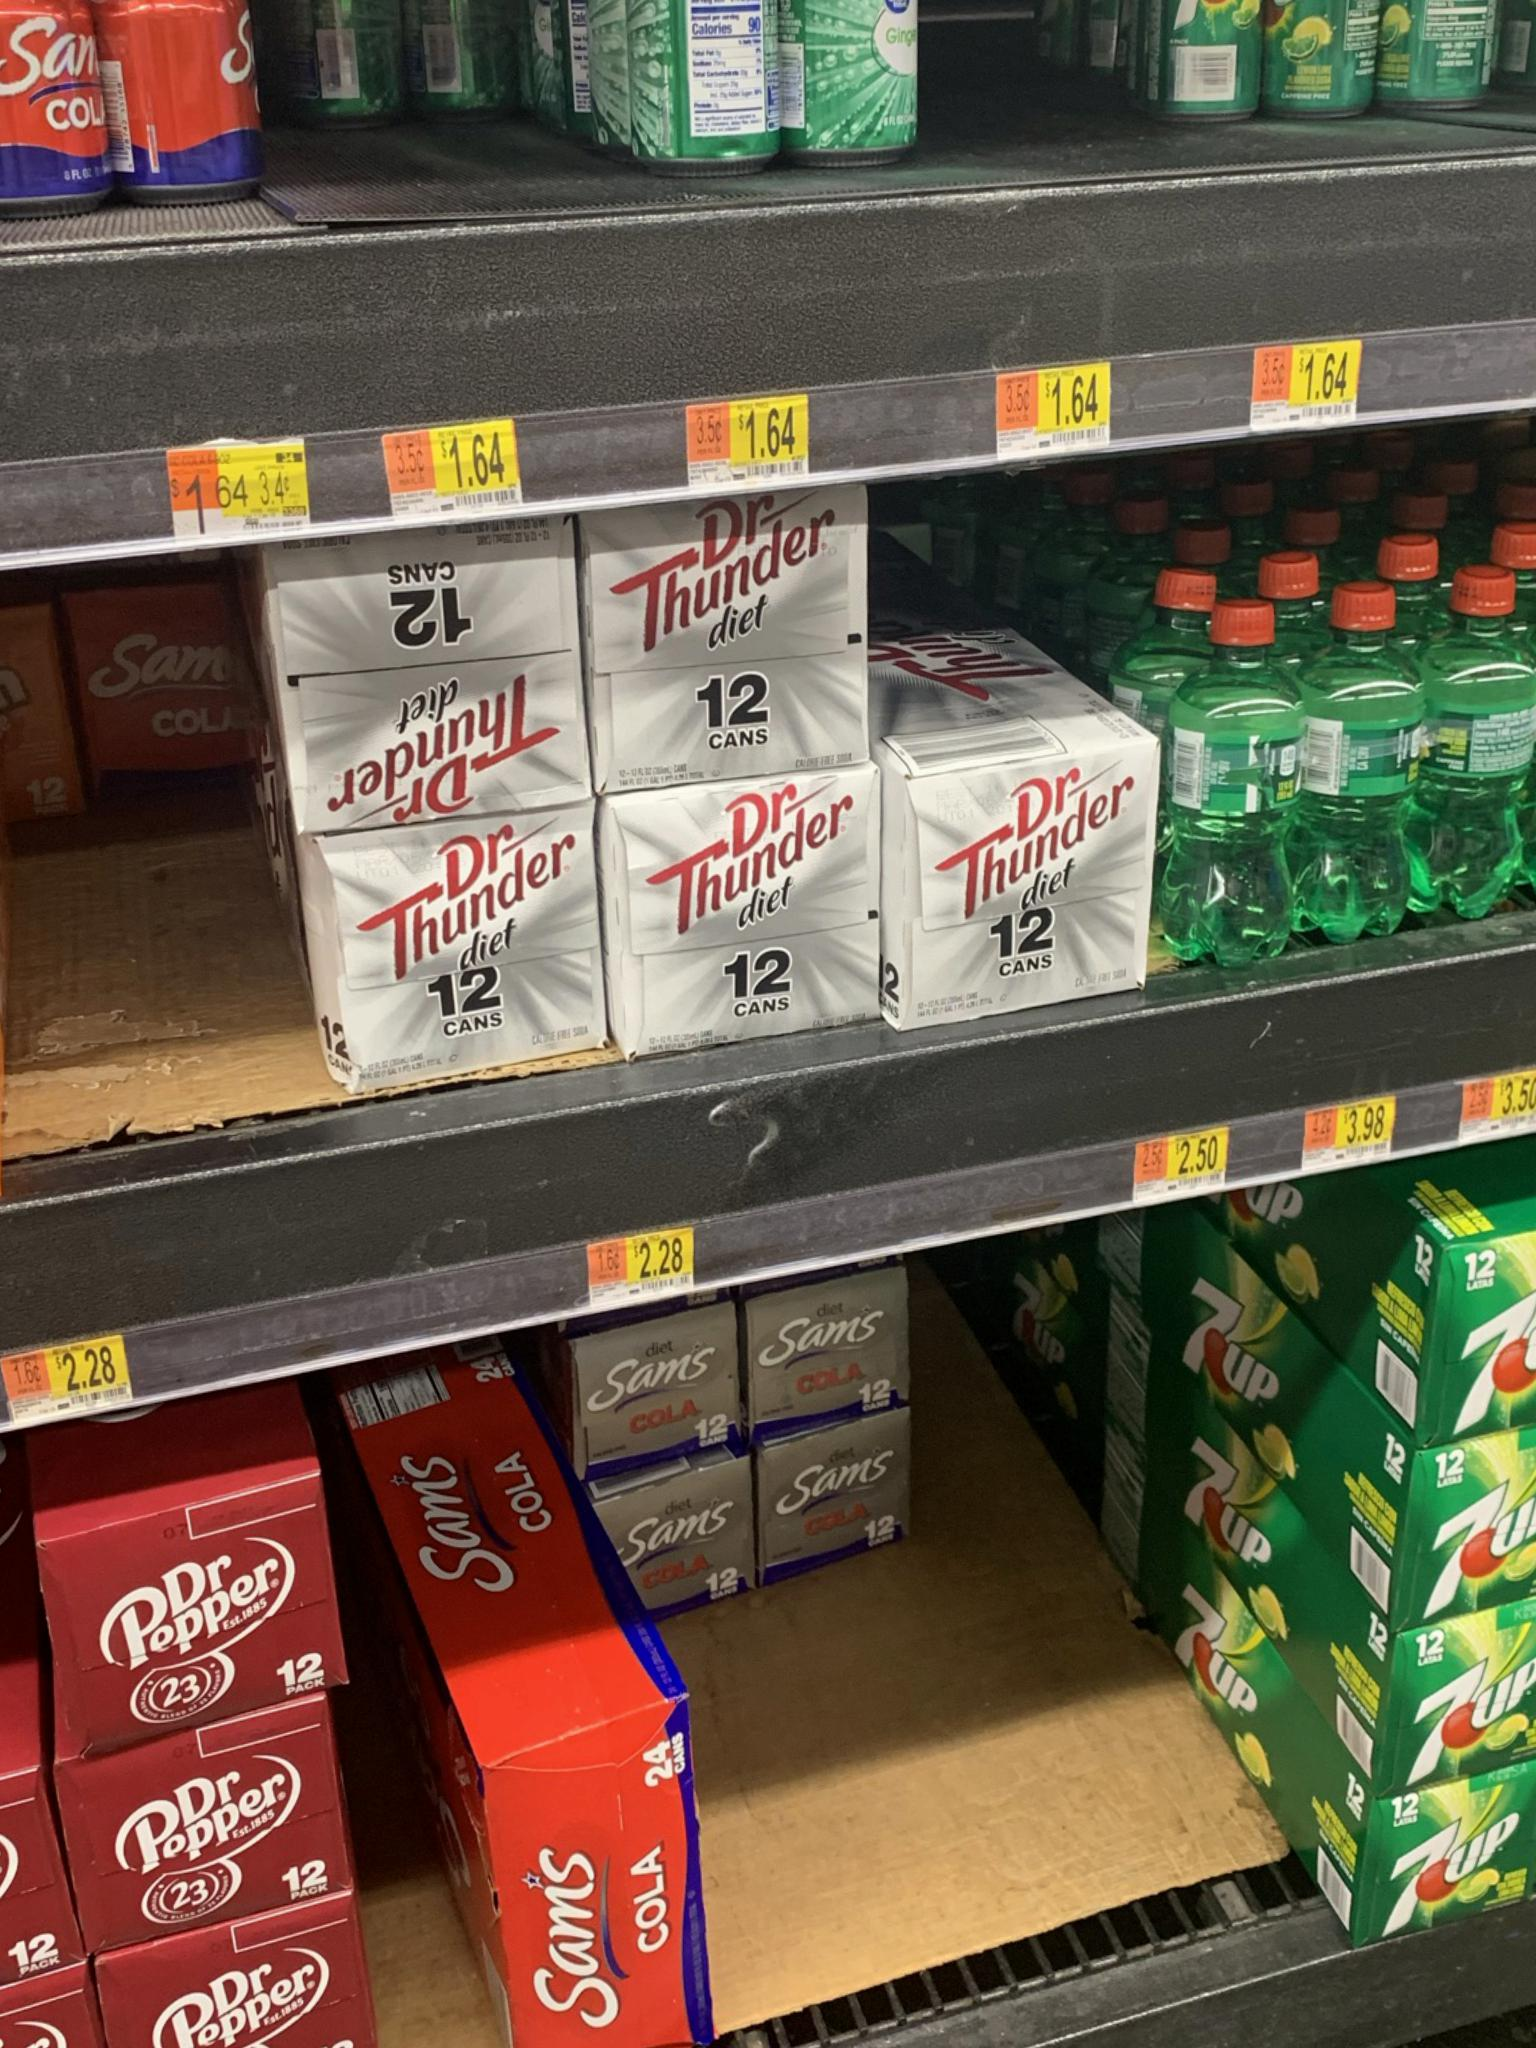soda: (1150, 1248, 1417, 1614), (1136, 1490, 1368, 1882), (581, 516, 873, 776), (316, 830, 600, 1077), (24, 1509, 340, 1708), (613, 808, 887, 1030), (892, 755, 1141, 985), (65, 1748, 337, 1925)
